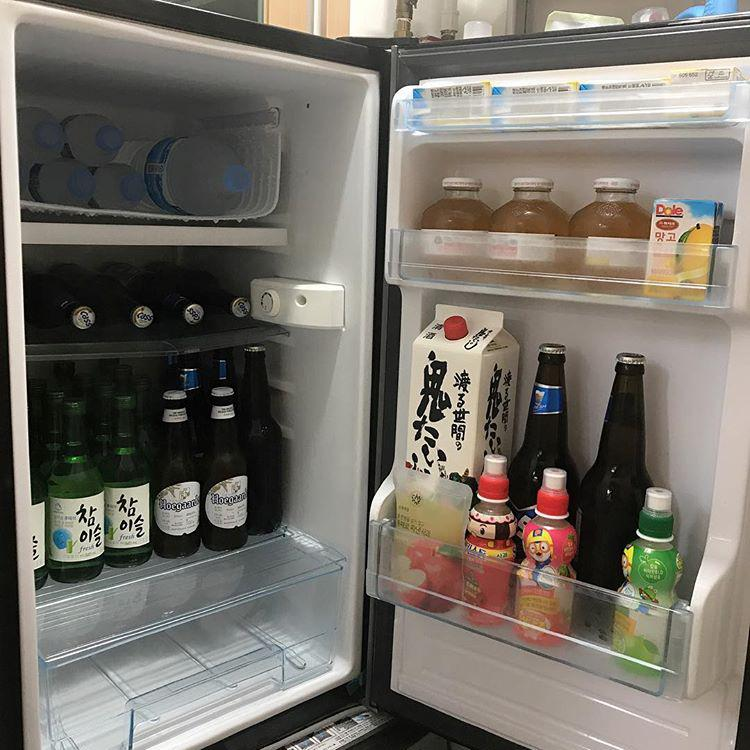soju: (23, 349, 160, 595)
